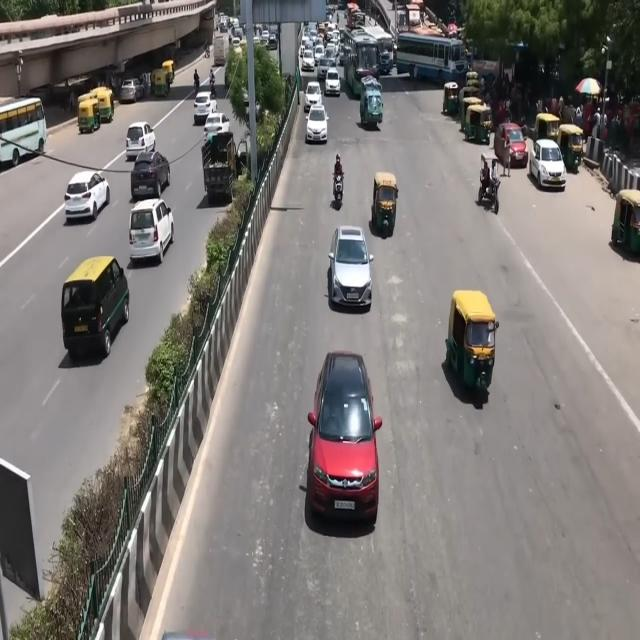auto: (446, 288, 497, 393), (611, 188, 640, 256), (463, 97, 498, 151), (371, 172, 398, 236), (92, 87, 115, 124), (78, 96, 100, 134), (150, 68, 170, 98), (162, 59, 176, 88)
bike-auto: (332, 167, 344, 206), (210, 81, 217, 100)
